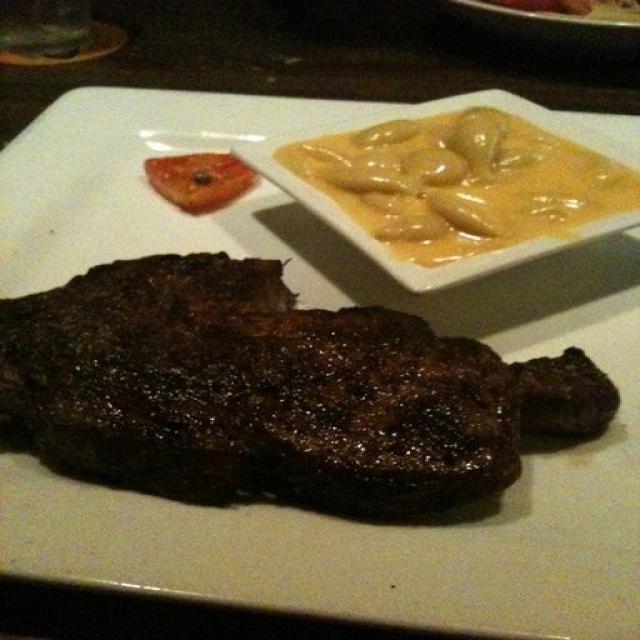Steak: (29, 244, 594, 512)
